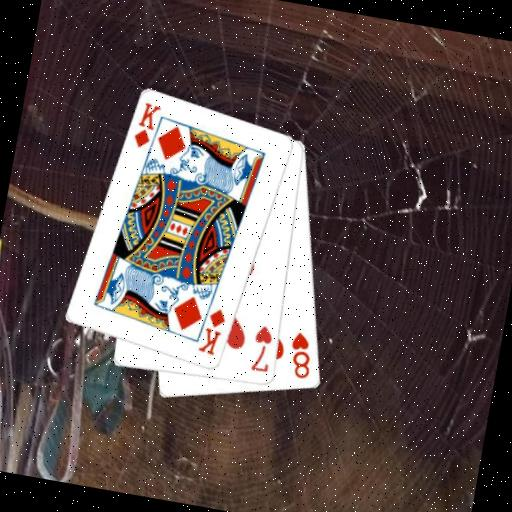7H: (246, 321, 277, 375)
8H: (283, 327, 319, 382)
KD: (194, 302, 229, 358), (129, 98, 163, 152)
